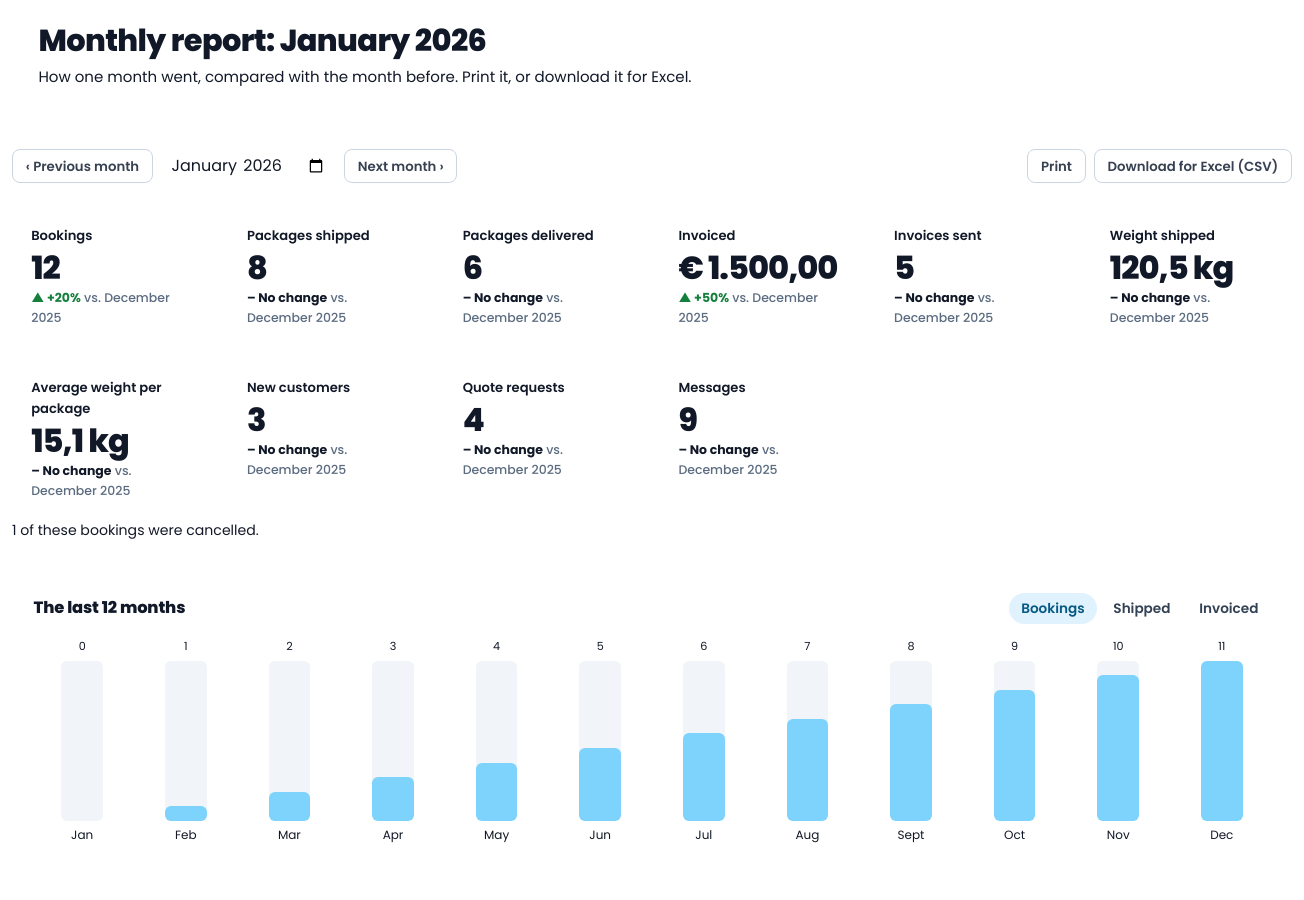
Test: the monthly report › goes to the month before with the arrow
Step 1. Click the button "‹ Previous month" → (82, 166), box [12,149,153,183]
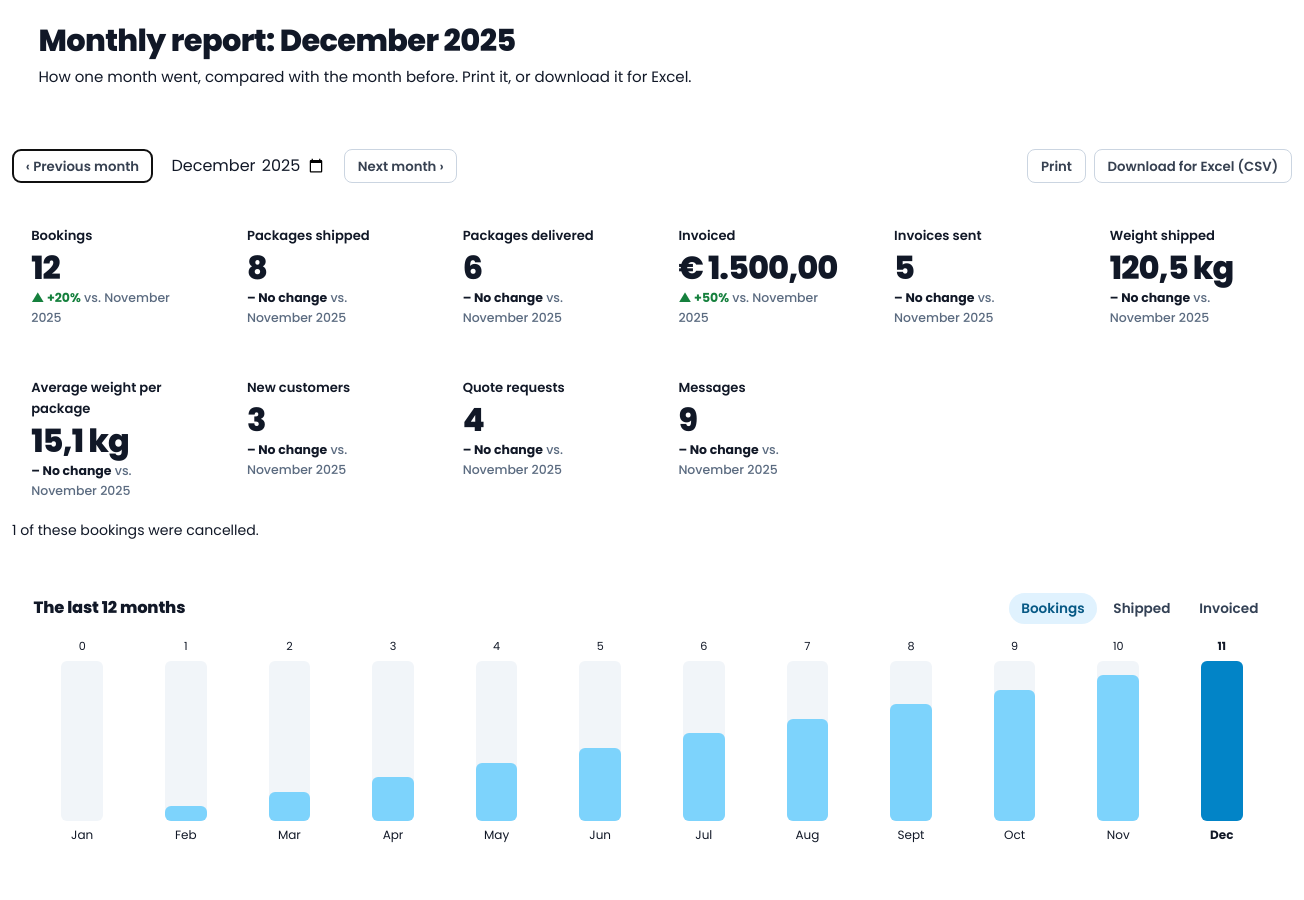
expect the heading "Monthly report: December 2025" is shown: met, box [38,19,516,62]
